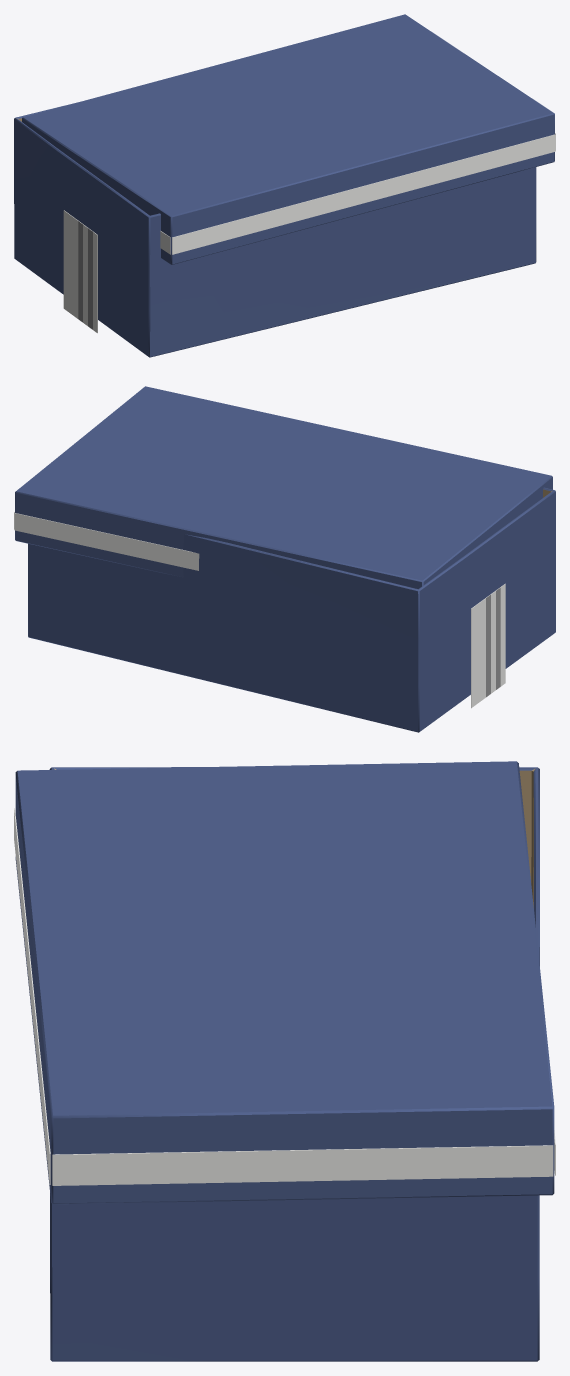
Rendered from paper_shoebox.fbx.
3 views of the same model, one above another, from view 1: azimuth 30°, elevation 25°; view 2: azimuth 150°, elevation 25°; view 3: azimuth 270°, elevation 25° (orthographic). The views are drawn at different scales.
Parts seen in each view (by area): view 1: paper_shoebox; view 2: paper_shoebox; view 3: paper_shoebox.
Boxes of the visible parts, <box> form: paper_shoebox: <box>14,14,555,357</box>; paper_shoebox: <box>14,386,555,732</box>; paper_shoebox: <box>14,761,555,1361</box>.
Bounding box in the file's own units: 0.3475 × 0.1285 × 0.2216.
